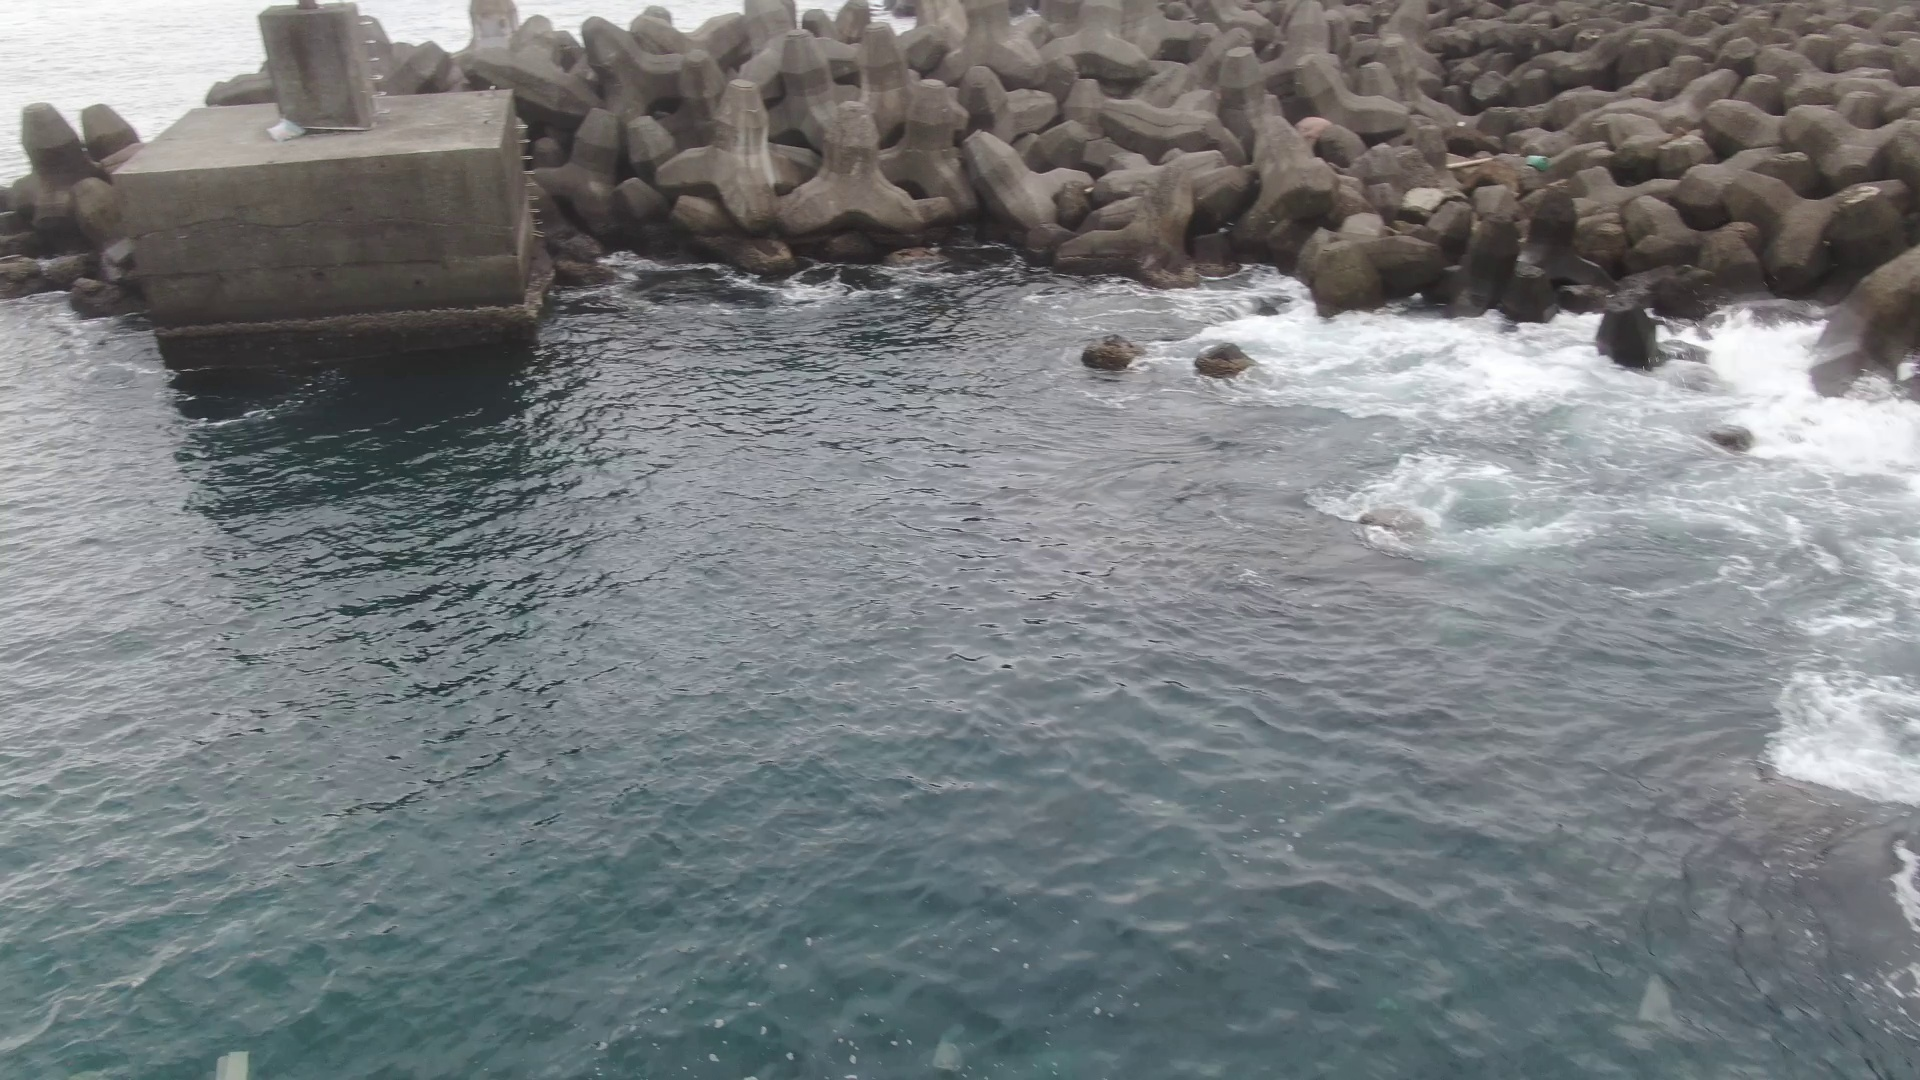garbage: (266, 117, 307, 145), (1526, 156, 1549, 173)
